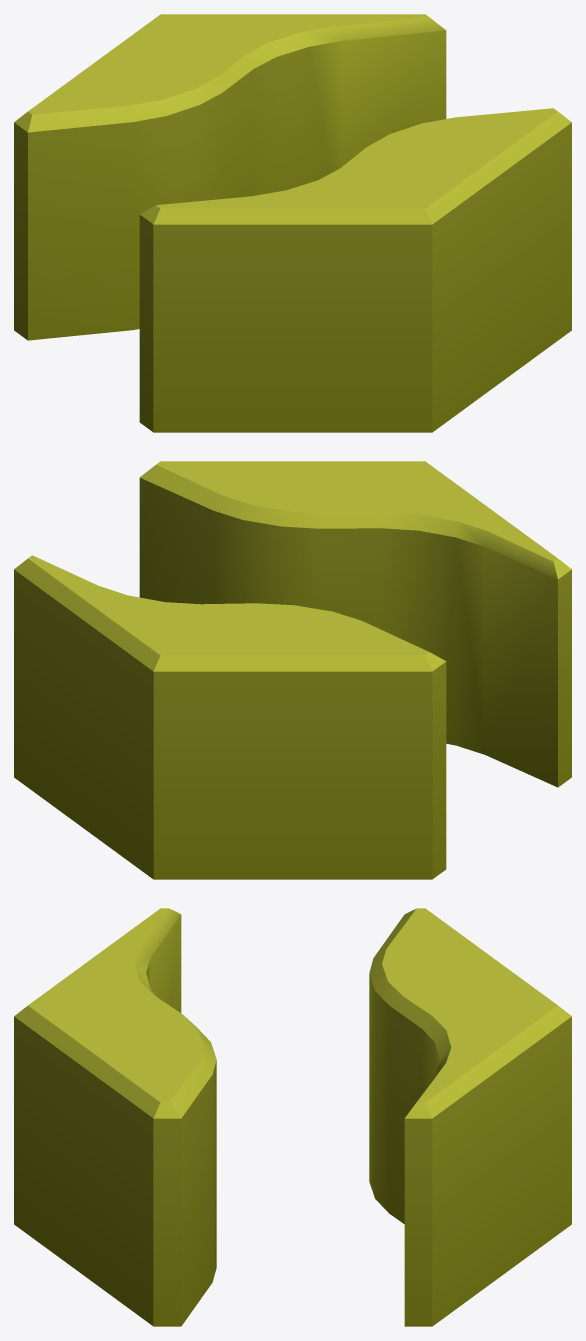
Rendered from hex_river_A_curvy_waterless.glb.
The picture shows the model from 3 angles, top to bottom: view 1: azimuth 30°, elevation 25°; view 2: azimuth 150°, elevation 25°; view 3: azimuth 270°, elevation 25°; orthographic projection.
Parts seen in each view (by area): view 1: hex_river_A_curvy_waterless; view 2: hex_river_A_curvy_waterless; view 3: hex_river_A_curvy_waterless.
Part boxes in pixels (left/top/right/bottom): hex_river_A_curvy_waterless: left=14, top=14, right=571, bottom=432; hex_river_A_curvy_waterless: left=14, top=461, right=571, bottom=879; hex_river_A_curvy_waterless: left=14, top=908, right=571, bottom=1326.
Size of the model in its own units: 9.6 by 4.8 by 11.09.
1 material, 1 textured.
